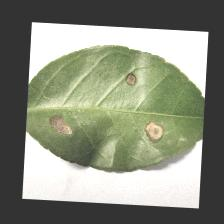canker: (44, 58, 173, 148)
